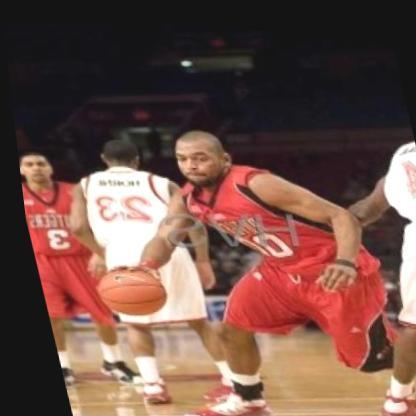basketball: (78, 251, 171, 325)
